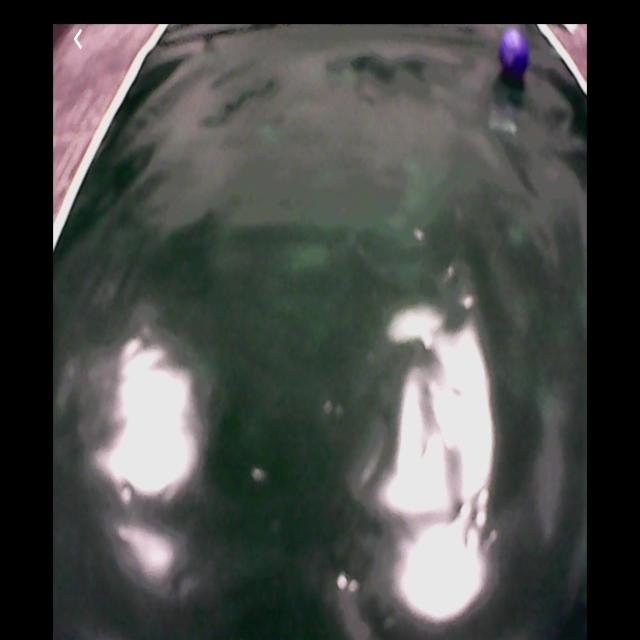ball: (501, 31, 531, 76)
